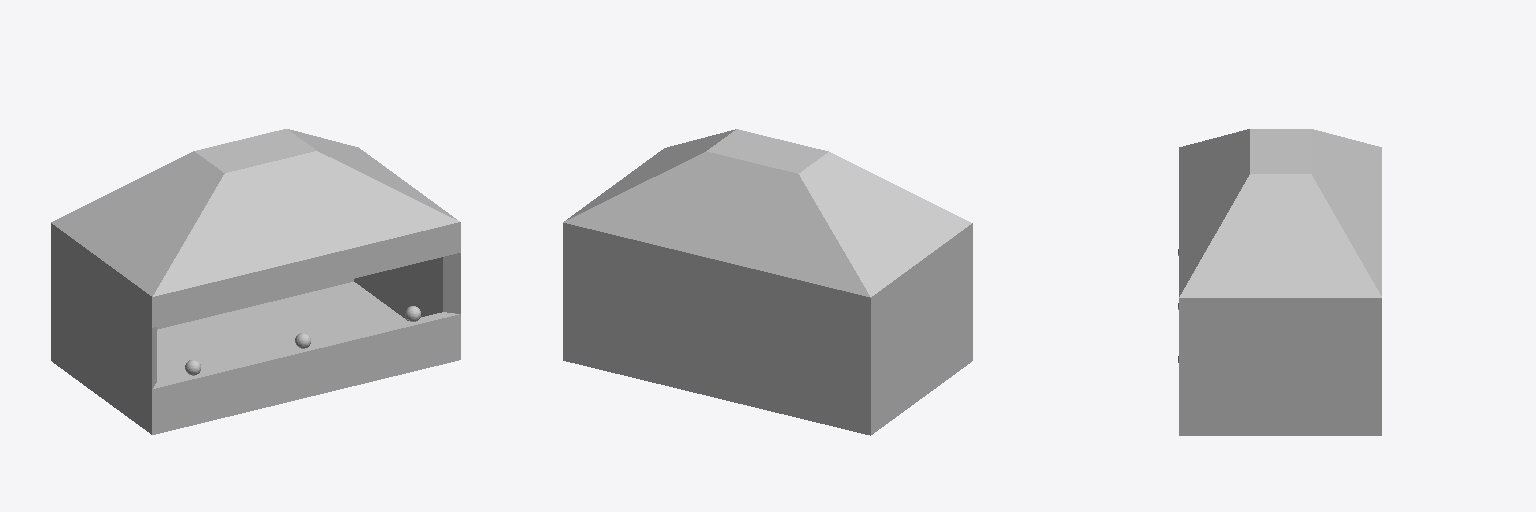
Rendered from Model_ShootingRange.obj.
The picture shows the model from 3 angles: view 1: azimuth 30°, elevation 25°; view 2: azimuth 150°, elevation 25°; view 3: azimuth 270°, elevation 25°; orthographic projection.
Parts seen in each view (by area): view 1: Cube_Cube.001; view 2: Cube_Cube.001; view 3: Cube_Cube.001.
Part boxes in pixels (left/top/right/bottom): Cube_Cube.001: left=51, top=129, right=460, bottom=434; Cube_Cube.001: left=563, top=129, right=972, bottom=435; Cube_Cube.001: left=1178, top=129, right=1381, bottom=435.
Size of the model in its own units: 14 by 9.1 by 8.05.